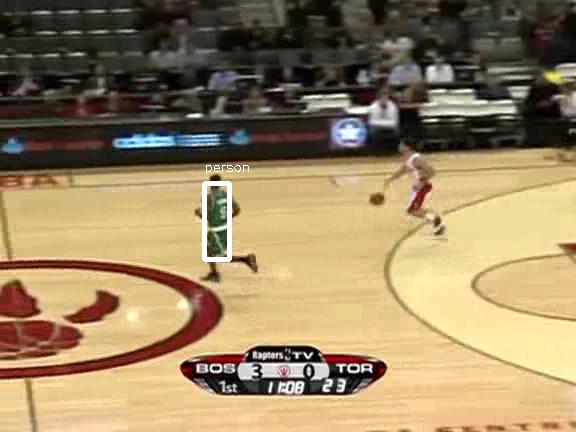person: (205, 179, 239, 260), (204, 179, 238, 260), (206, 179, 240, 260), (205, 178, 239, 259), (205, 180, 239, 261)
target_negative: (148, 161, 364, 394), (74, 211, 462, 322), (224, 284, 517, 417), (97, 330, 350, 370), (453, 50, 488, 301), (121, 33, 144, 304)
